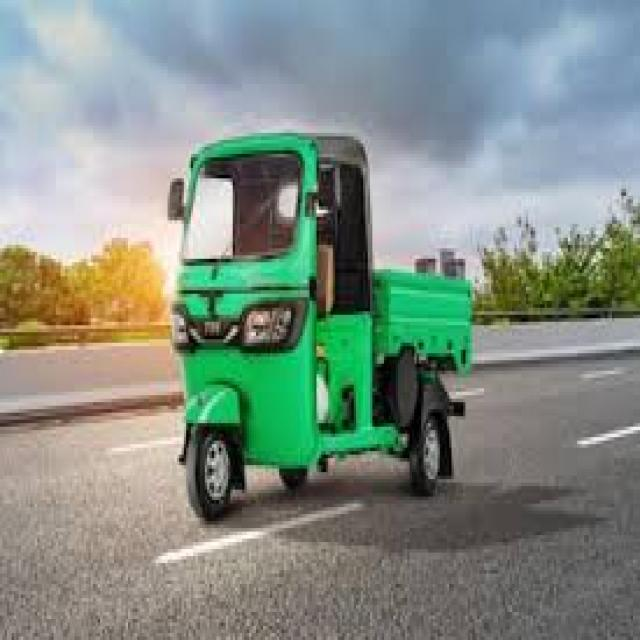Tempo: (182, 101, 471, 532)
